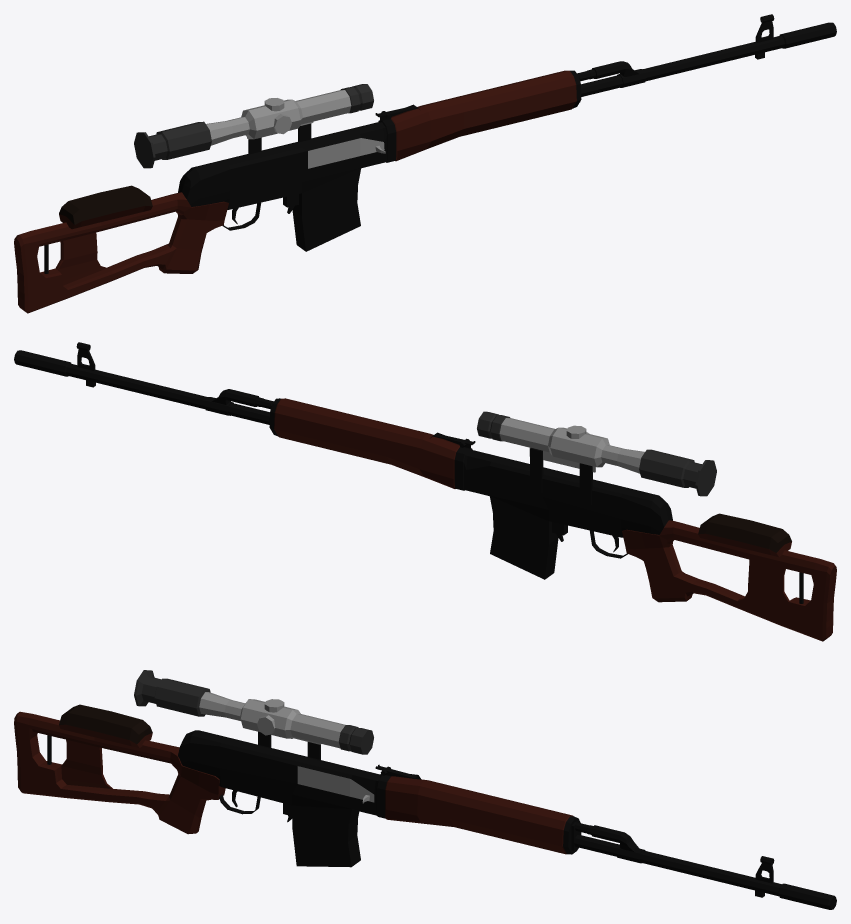
The model's file is Tabasco_Dragunov.obj.
3 views of the same model, one above another, from view 1: azimuth 30°, elevation 25°; view 2: azimuth 150°, elevation 25°; view 3: azimuth 330°, elevation 25° (orthographic).
Visible parts, largest first — view 1: Cube; view 2: Cube; view 3: Cube.
Boxes of the visible parts, x1=… form: Cube: x1=14, y1=14, x2=836, y2=313; Cube: x1=14, y1=342, x2=836, y2=641; Cube: x1=14, y1=670, x2=836, y2=909.
Bounding box in the file's own units: 9.98 × 1.8 × 0.4459.
